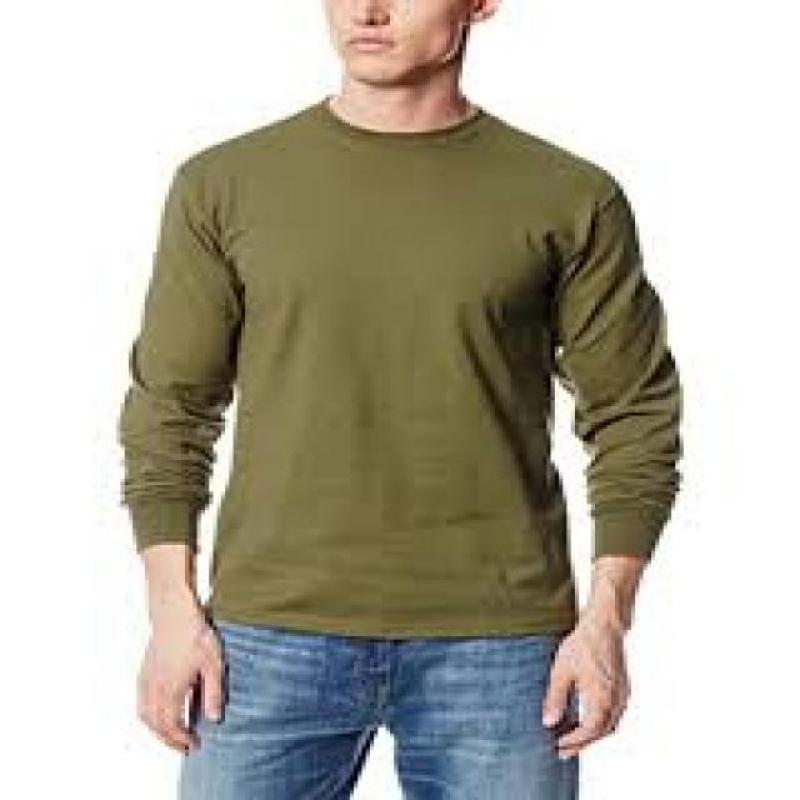long sleeve shirt: (113, 100, 688, 637)
trousers: (176, 618, 585, 800)
